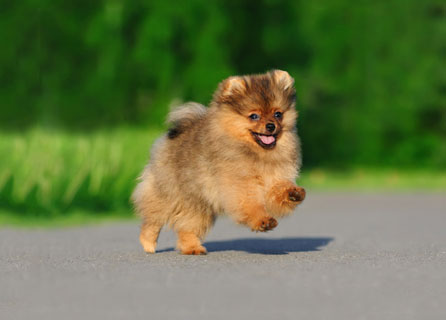pomeranian: (127, 66, 320, 261)
